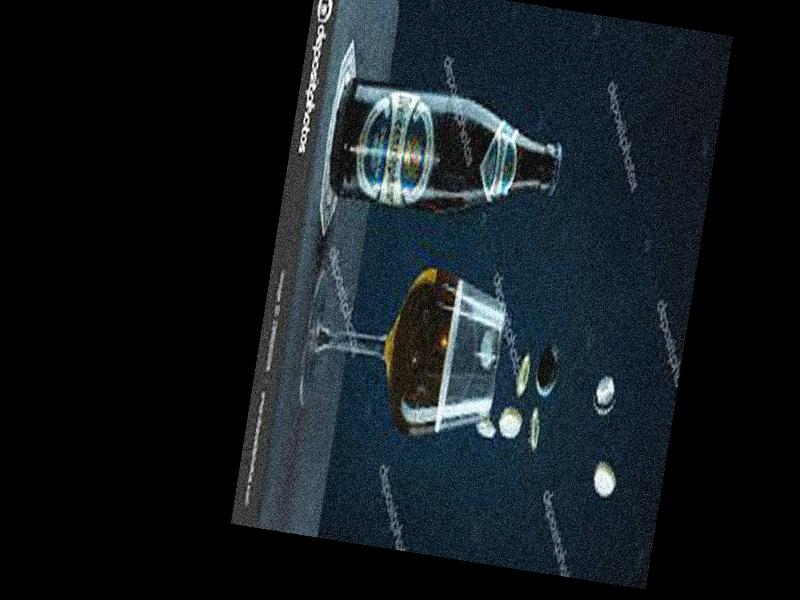Beer: (327, 80, 566, 227)
